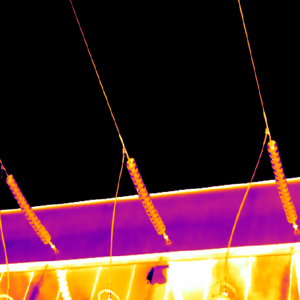insulator: (5, 173, 51, 244), (125, 155, 166, 234), (266, 137, 297, 223)
